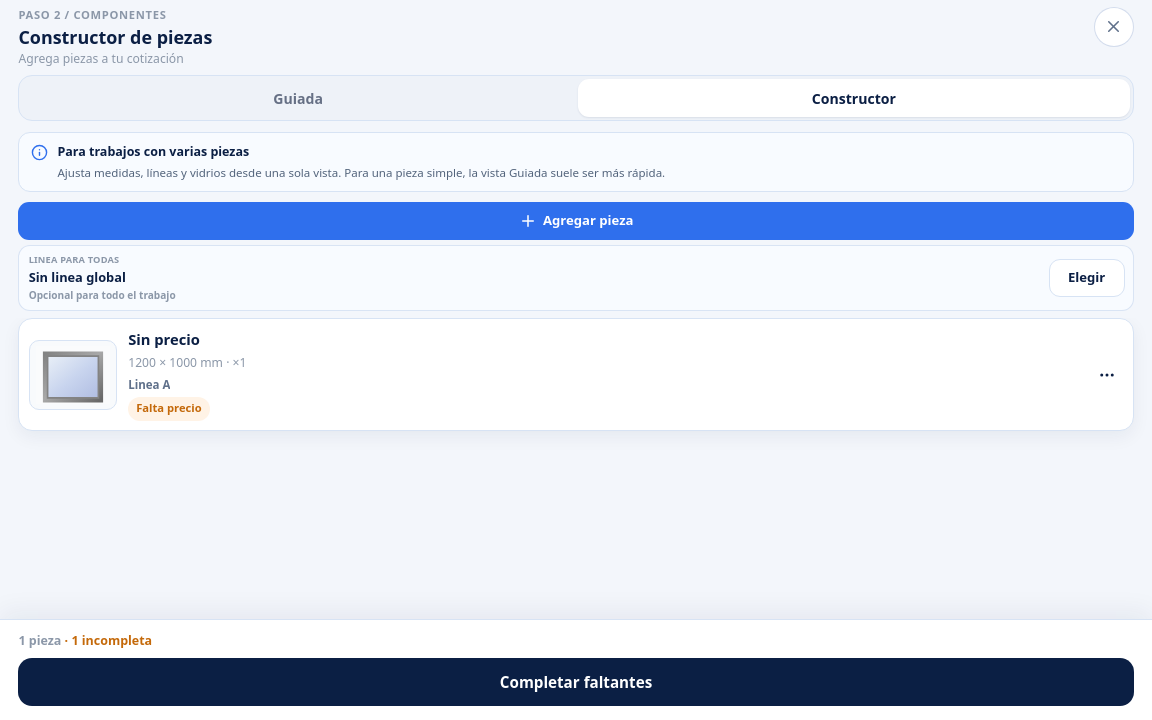
Test: PasoDosCuadernoMovil › completar faltantes abre la primera pieza incompleta
Click the button "Completar faltantes": (576, 682) [18,658,1134,706]
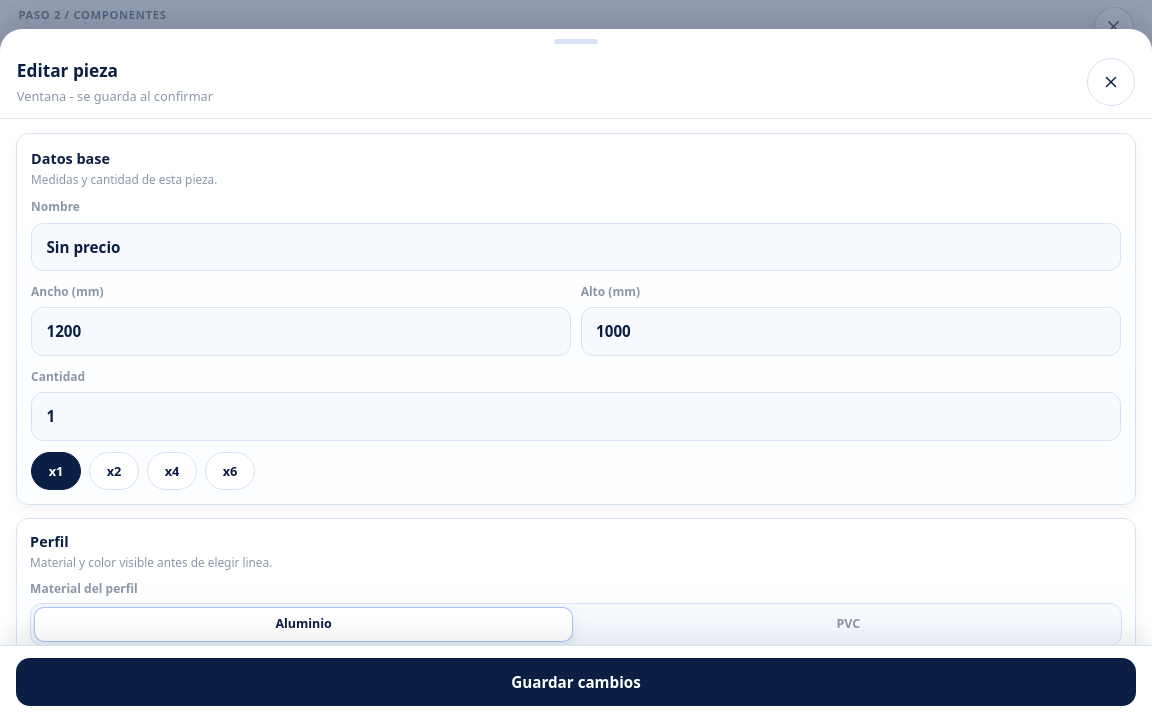
Expected: the dialog "Editar pieza" is shown
